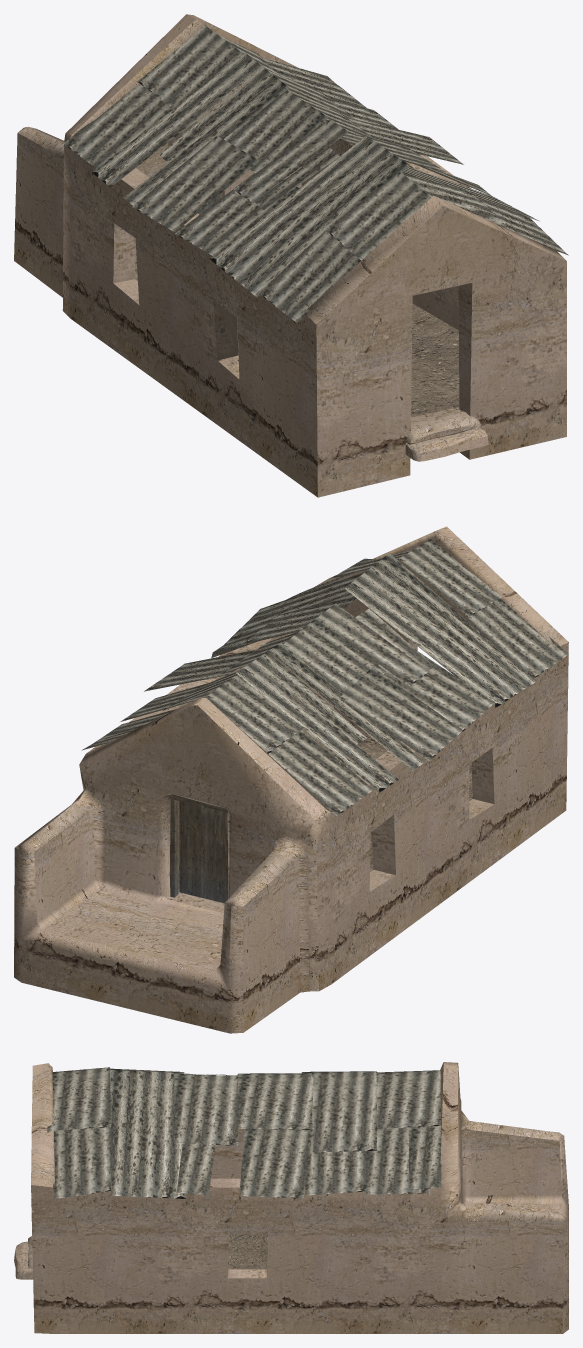
Rendered from House_05_LOD2.fbx.
3 views of the same model, one above another, from view 1: azimuth 30°, elevation 25°; view 2: azimuth 150°, elevation 25°; view 3: azimuth 270°, elevation 25° (orthographic). The views are drawn at different scales.
Parts seen in each view (by area): view 1: polySurface2810; view 2: polySurface2810; view 3: polySurface2810.
Part boxes in pixels (x1,y1,x2,y2): polySurface2810: (14, 14, 568, 497); polySurface2810: (14, 526, 568, 1033); polySurface2810: (14, 1062, 568, 1333).
Size of the model in its own units: 5.27 by 4.59 by 10.32.
